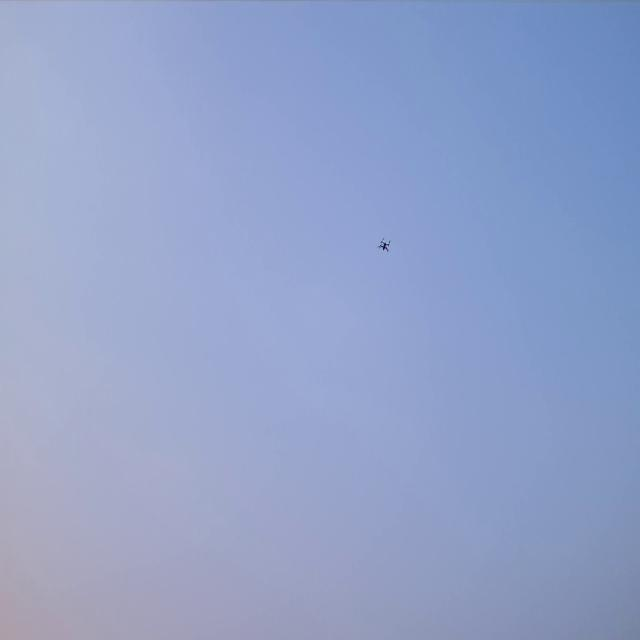UAV: (377, 235, 392, 253)
